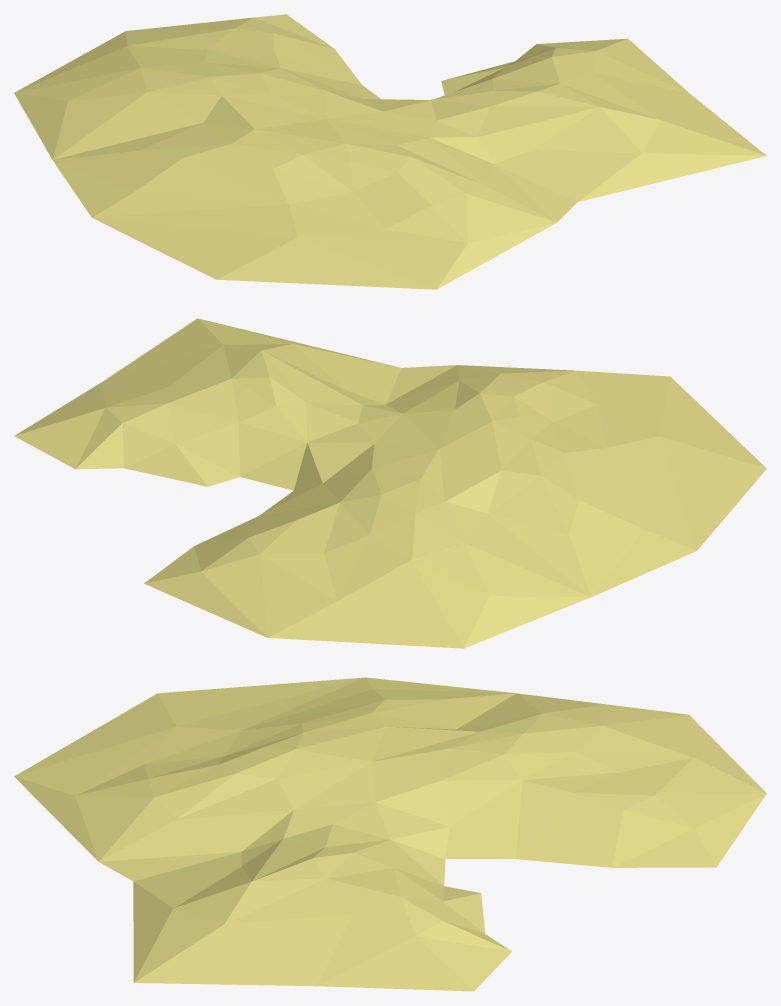
Rendered from Land_4.fbx.
3 views of the same model, one above another, from view 1: azimuth 30°, elevation 25°; view 2: azimuth 150°, elevation 25°; view 3: azimuth 270°, elevation 25° (orthographic). The views are drawn at different scales.
Visible parts, largest first — view 1: Land_4; view 2: Land_4; view 3: Land_4.
Boxes of the visible parts, x1,y1,x2,y2 form: Land_4: (14,14,766,289); Land_4: (14,318,766,648); Land_4: (14,677,766,991).
Size of the model in its own units: 856 by 60.2 by 867.
1 material, 1 textured.
